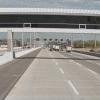Bridge: (5, 4, 99, 43)
